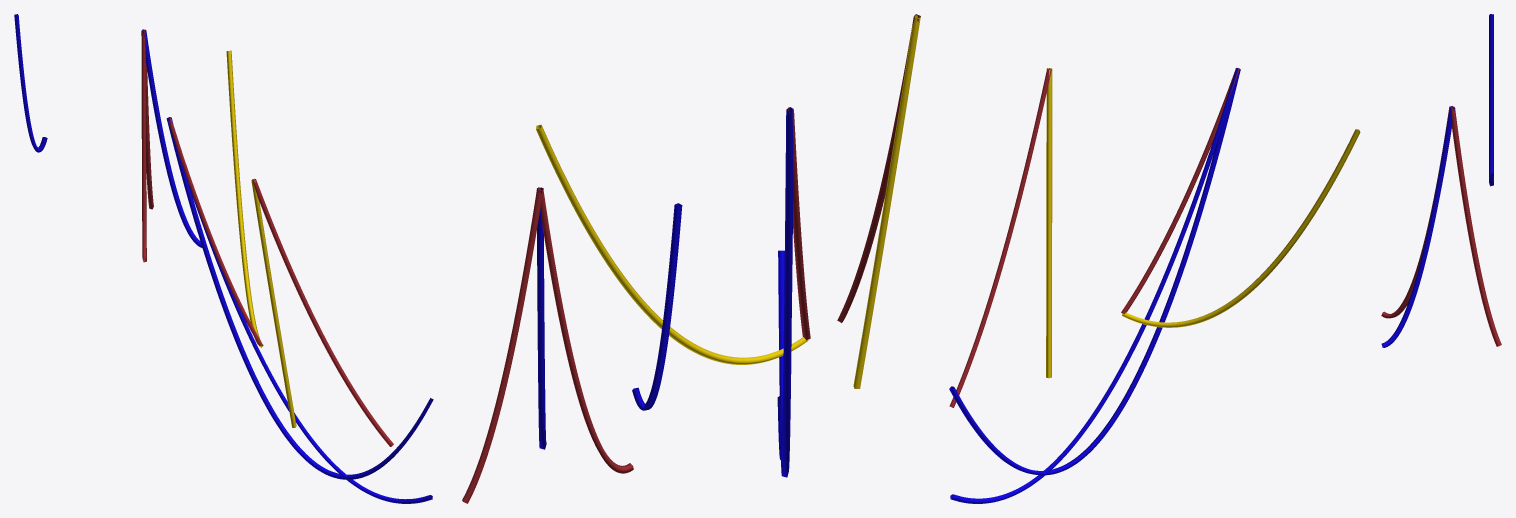
Rendered from Pipes_4.fbx.
3 views of the same model, side by side, from view 1: azimuth 30°, elevation 25°; view 2: azimuth 150°, elevation 25°; view 3: azimuth 270°, elevation 25° (orthographic). The views are drawn at different scales.
Visible parts, largest first — view 1: Catenary.036, Catenary.035, Catenary.032, Catenary.034, Catenary.033, Catenary.038, Catenary.037, Catenary.031, Catenary.063, Catenary.051; view 2: Catenary.036, Catenary.032, Catenary.033, Catenary.051, Catenary.037, Catenary.063, Catenary.038, Catenary.034, Catenary.031, Catenary.035; view 3: Catenary.036, Catenary.035, Catenary.032, Catenary.033, Catenary.034, Catenary.051, Catenary.038, Catenary.031, Catenary.063, Catenary.037.
Part boxes in pixels (x1,y1,x2,y2): Catenary.036: (166,117,433,479); Catenary.035: (168,117,432,503); Catenary.032: (226,50,263,347); Catenary.034: (252,178,393,446); Catenary.033: (251,179,296,427); Catenary.038: (142,30,202,247); Catenary.037: (141,30,146,262); Catenary.031: (167,117,262,346); Catenary.063: (14,14,47,152); Catenary.051: (141,29,153,209); Catenary.036: (778,107,793,477); Catenary.032: (536,124,808,364); Catenary.033: (853,15,920,388); Catenary.051: (462,188,542,503); Catenary.037: (538,187,633,473); Catenary.063: (632,203,682,410); Catenary.038: (536,187,546,449); Catenary.034: (837,14,920,322); Catenary.031: (786,107,810,340); Catenary.035: (777,107,793,459); Catenary.036: (949,68,1240,475); Catenary.035: (950,68,1239,503); Catenary.032: (1122,129,1360,327); Catenary.033: (1046,68,1052,378); Catenary.034: (949,68,1051,407); Catenary.051: (1450,107,1501,346); Catenary.038: (1381,106,1454,347); Catenary.031: (1121,68,1239,313); Catenary.063: (1489,14,1493,186); Catenary.037: (1381,106,1453,318).
Size of the model in its own units: 473 by 922 by 1143.
